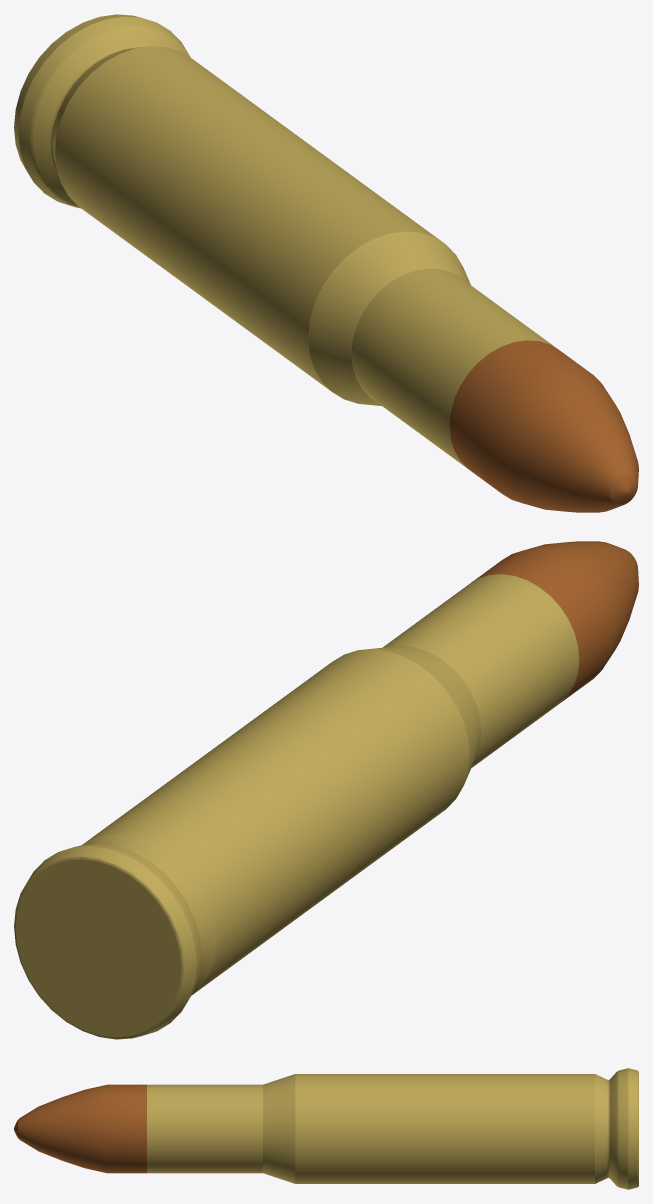
The model's file is M_AK47Ammo.fbx.
3 renders of one model, top to bottom at view 1: azimuth 30°, elevation 25°; view 2: azimuth 150°, elevation 25°; view 3: azimuth 270°, elevation 25°, orthographic. The views are drawn at different scales.
Parts seen in each view (by area): view 1: rifleammo; view 2: rifleammo; view 3: rifleammo.
Part boxes in pixels (x1,y1,x2,y2): rifleammo: (14, 14, 638, 512); rifleammo: (14, 541, 638, 1039); rifleammo: (14, 1068, 638, 1189).
Size of the model in its own units: 0.0712 by 0.0712 by 0.3656.
